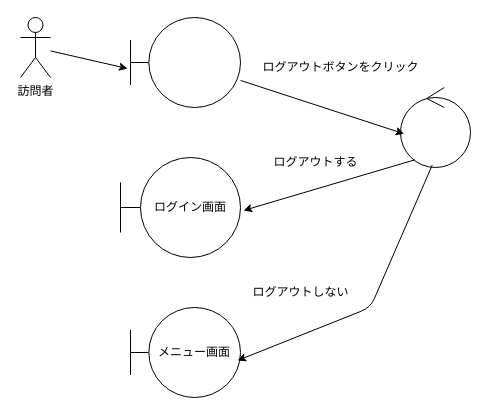
This 488x415 diagram has some shape labels left out. The shapes that lost their labels are listed below. From the top down, each one's centre as x and y in pixels, then its label:
At [185,62]: "ログアウト画面".
At [435,127]: "ログアウトをするかの確認".
